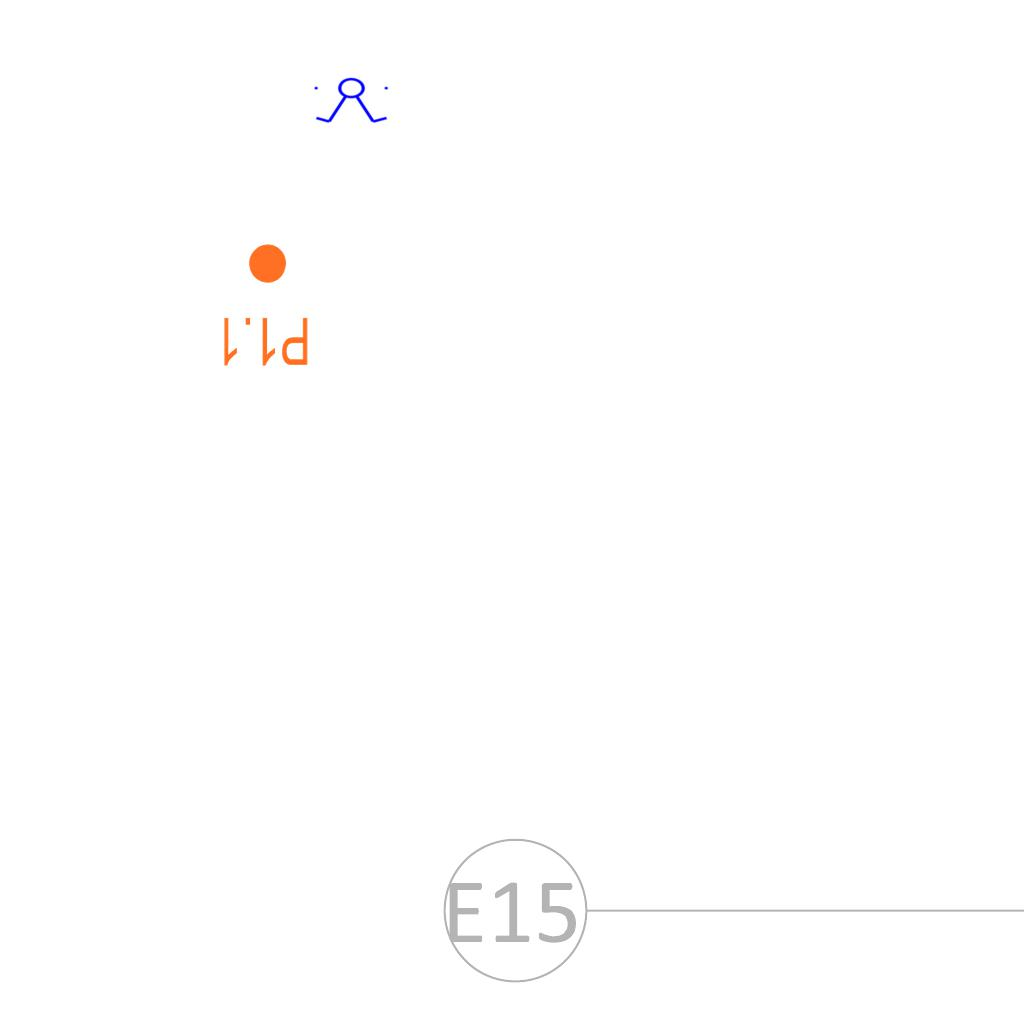Downlight_LED_Einbauleuchten_Flur: (218, 241, 311, 369)
Serienschalter: (310, 77, 394, 125)
